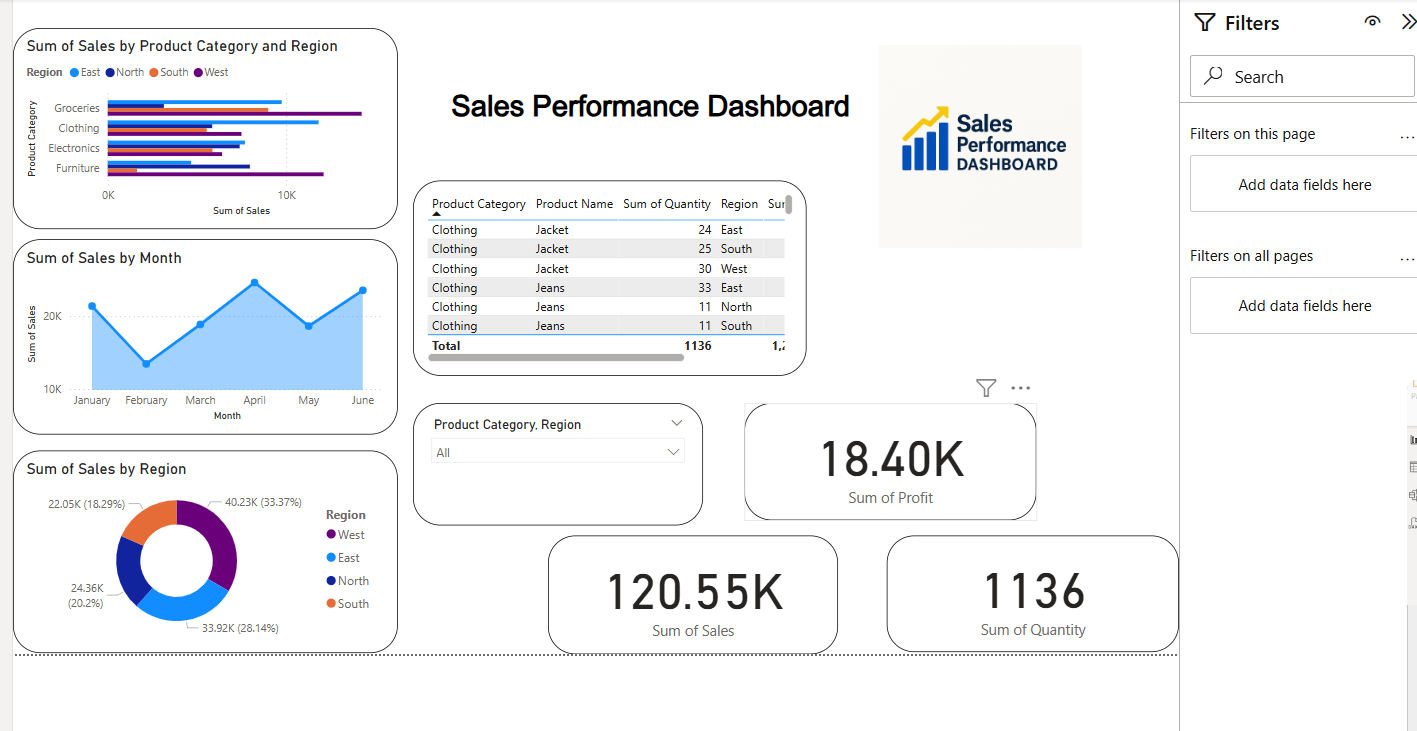

Layout of this report page (visuals, bound fields, positions):
{"tool":"powerbi","page":{"name":"Page 1","canvas":[1280,720],"ordinal":0},"visuals":[{"type":"clusteredBarChart","fields":{"Category":["Sheet1.Product Category"],"Series":["Sheet1.Region"],"Y":["Sum(Sheet1.Sales)"]},"box":[0,32.9,422.6,220.9],"z":0},{"type":"lineChart","fields":{"Category":["Sheet1.S.Variation.Date Hierarchy.Month"],"Y":["Sum(Sheet1.Sales)"]},"box":[0,264.8,422.6,214.1],"z":1},{"type":"donutChart","fields":{"Category":["Sheet1.Region"],"Y":["Sum(Sheet1.Sales)"]},"box":[0,496.7,422.6,222.3],"z":2},{"type":"tableEx","fields":{"Values":["Sheet1.Product Category","Sheet1.Product Name","Sum(Sheet1.Quantity)","Sheet1.Region","Sum(Sheet1.Sales)","Sum(Sheet1.Profit)"]},"box":[439.1,200.3,432.2,214.1],"z":3},{"type":"card","fields":{"Values":["Sum(Sheet1.Quantity)"]},"box":[959.2,590.1,321.1,127.6],"z":4},{"type":"card","fields":{"Values":["Sum(Sheet1.Profit)"]},"box":[802.7,444.6,321.1,129],"z":5},{"type":"card","fields":{"Values":["Sum(Sheet1.Sales)"]},"box":[587.3,590.1,318.4,130.4],"z":6},{"type":"slicer","fields":{"Values":["Sheet1.Product Category","Sheet1.Region"]},"box":[439.1,444.6,318.4,134.5],"z":7},{"type":"textbox","box":[476.2,90.6,573.6,67.2],"z":8},{"type":"image","box":[843.9,46.7,436.4,233.3],"z":9}]}

Visuals, with their boxes on the page's 1280x720 design canvas (x1, y1, x2, y2). These are canvas units, not pixel positions in the 1417x731 screenshot, which may show the page scaled, cropped or inside an application window:
clusteredBarChart - Sheet1.Product Category x Sheet1.Region: (0, 33, 423, 254)
lineChart - Sheet1.S.Variation.Date Hierarchy.Month x Sum(Sheet1.Sales): (0, 265, 423, 479)
donutChart - Sheet1.Region x Sum(Sheet1.Sales): (0, 497, 423, 719)
tableEx - Sheet1.Product Category x Sheet1.Product Name: (439, 200, 871, 414)
card - Sum(Sheet1.Quantity): (959, 590, 1280, 718)
card - Sum(Sheet1.Profit): (803, 445, 1124, 574)
card - Sum(Sheet1.Sales): (587, 590, 906, 720)
slicer - Sheet1.Product Category x Sheet1.Region: (439, 445, 758, 579)
textbox: (476, 91, 1050, 158)
image: (844, 47, 1280, 280)
